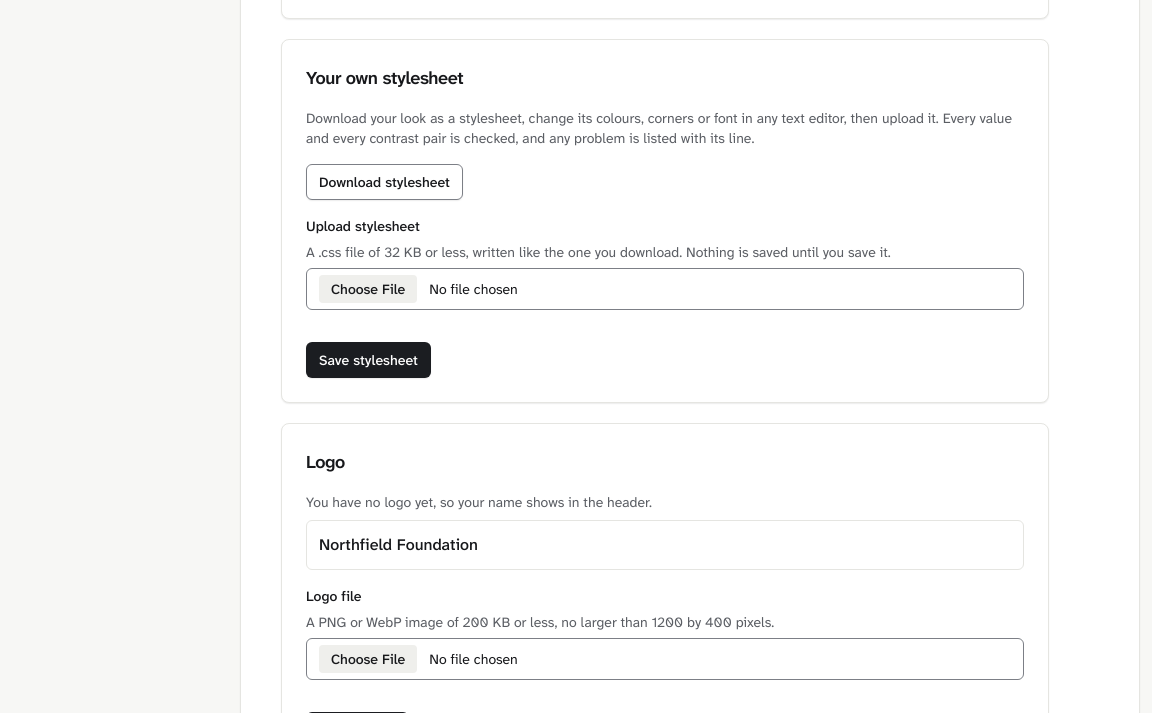
it: the stylesheet section, with no stylesheet saved › says what to do when Save stylesheet is pressed with no file
(page scrolled)
Expected: the file field labelled "Upload stylesheet" is shown, [306,268,1024,310]
Click the button "Save stylesheet". click: (368, 360)
box: [306,342,431,378]
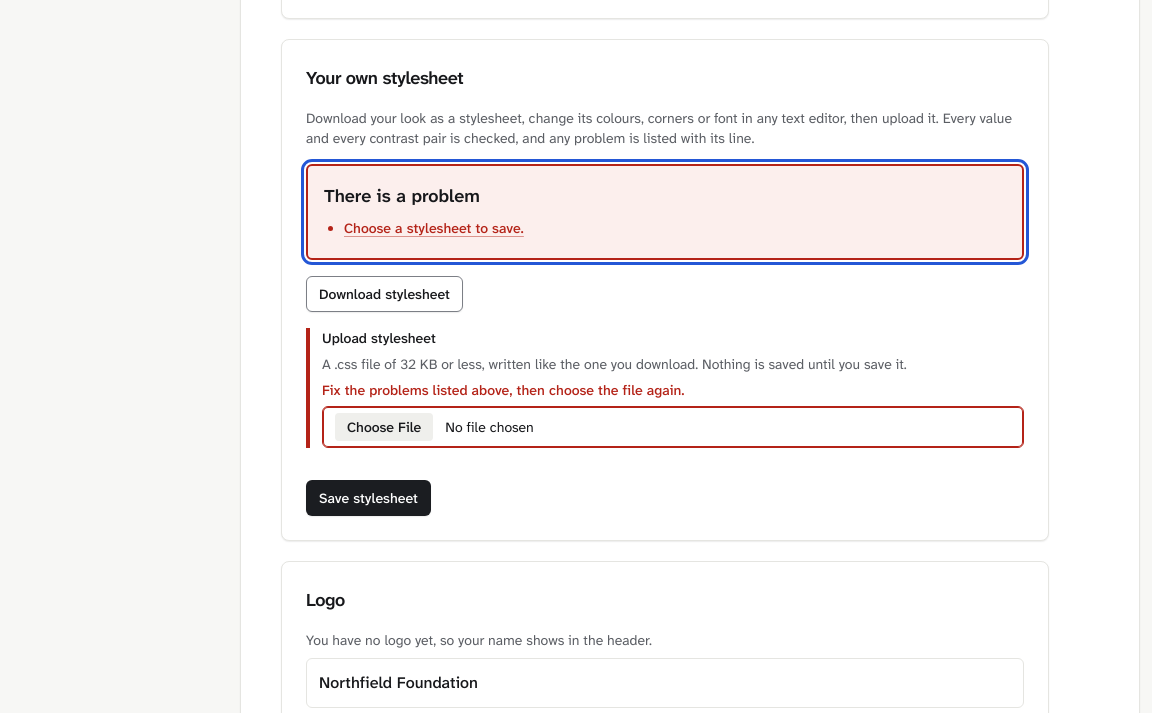
Now the link "Choose a stylesheet to save." is shown, box [344,219,524,237]
